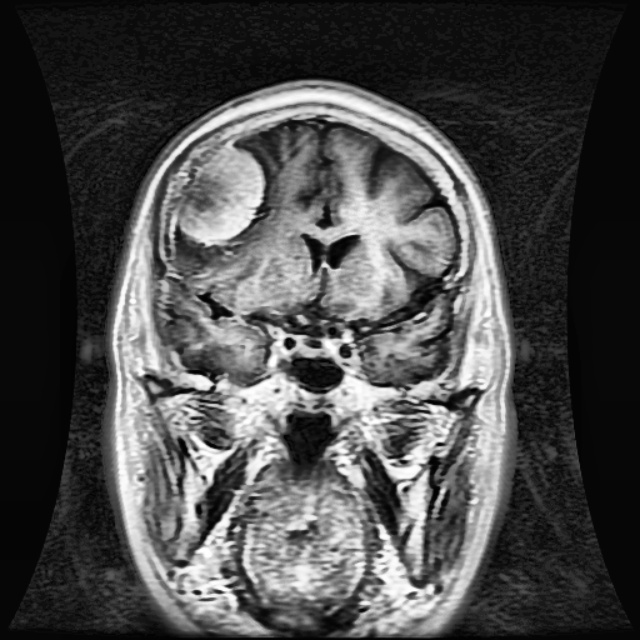Glioma: (174, 143, 264, 243)
